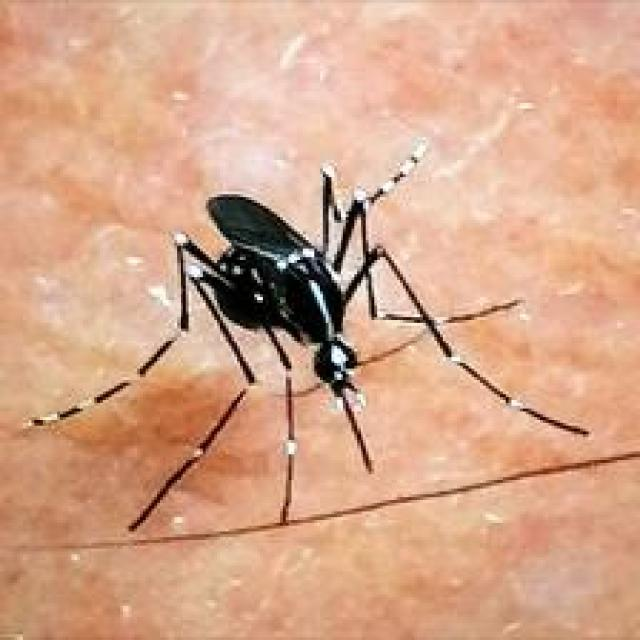Aedes albopictus: (26, 136, 591, 533)
